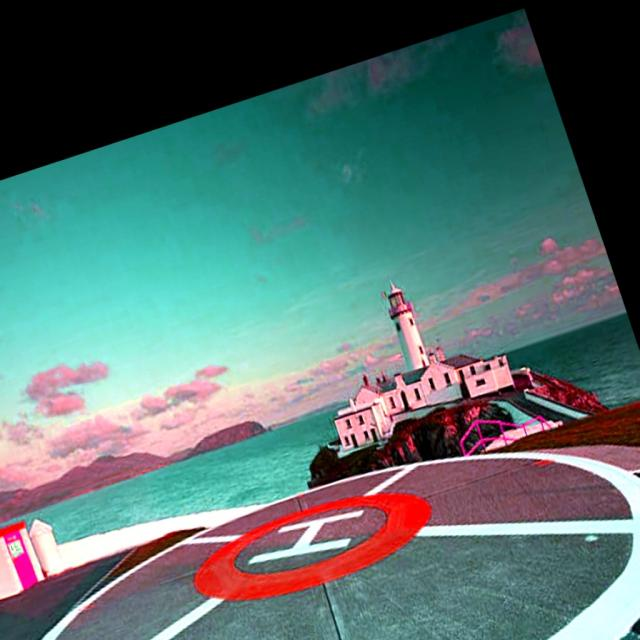helipad: (190, 488, 432, 603)
